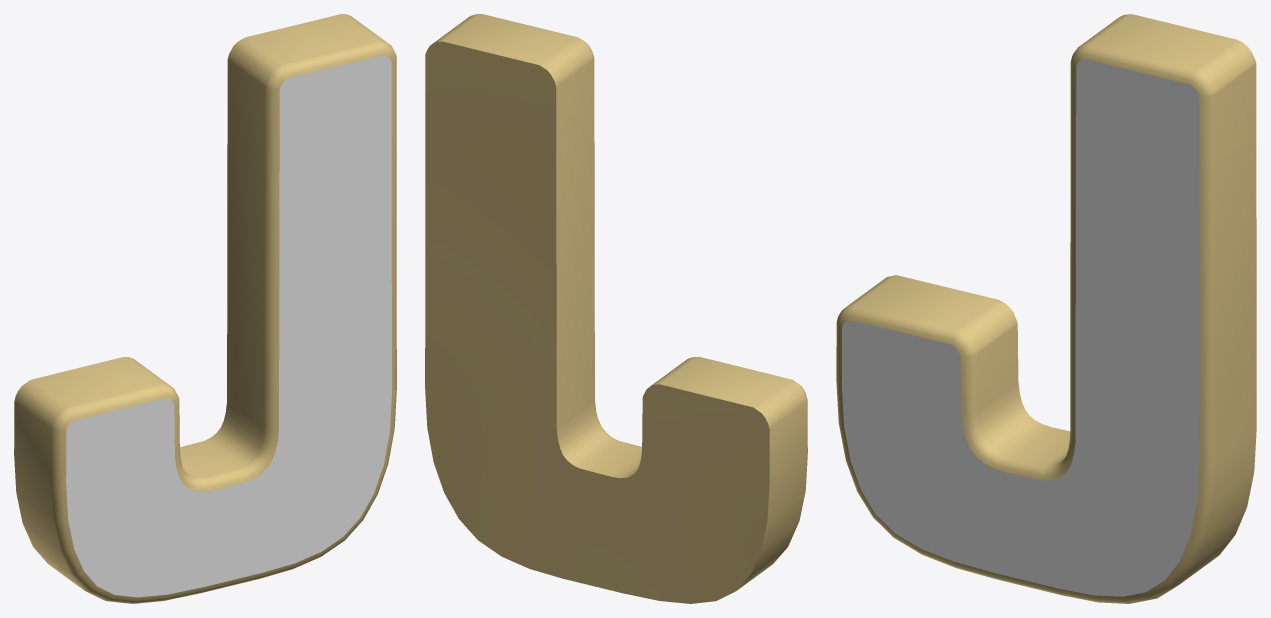
Rendered from LettersLightUp02_J.FBX.
The picture shows the model from 3 angles, left to right: view 1: azimuth 30°, elevation 25°; view 2: azimuth 150°, elevation 25°; view 3: azimuth 330°, elevation 25°; orthographic projection. The views are drawn at different scales.
Parts seen in each view (by area): view 1: LettersLightUp02_J; view 2: LettersLightUp02_J; view 3: LettersLightUp02_J.
Boxes of the visible parts, x1=… form: LettersLightUp02_J: x1=14, y1=14, x2=396, y2=603; LettersLightUp02_J: x1=425, y1=14, x2=807, y2=603; LettersLightUp02_J: x1=836, y1=14, x2=1256, y2=603.
Size of what is drawn, in the model's own units: 0.4259 by 0.5998 by 0.0912.
